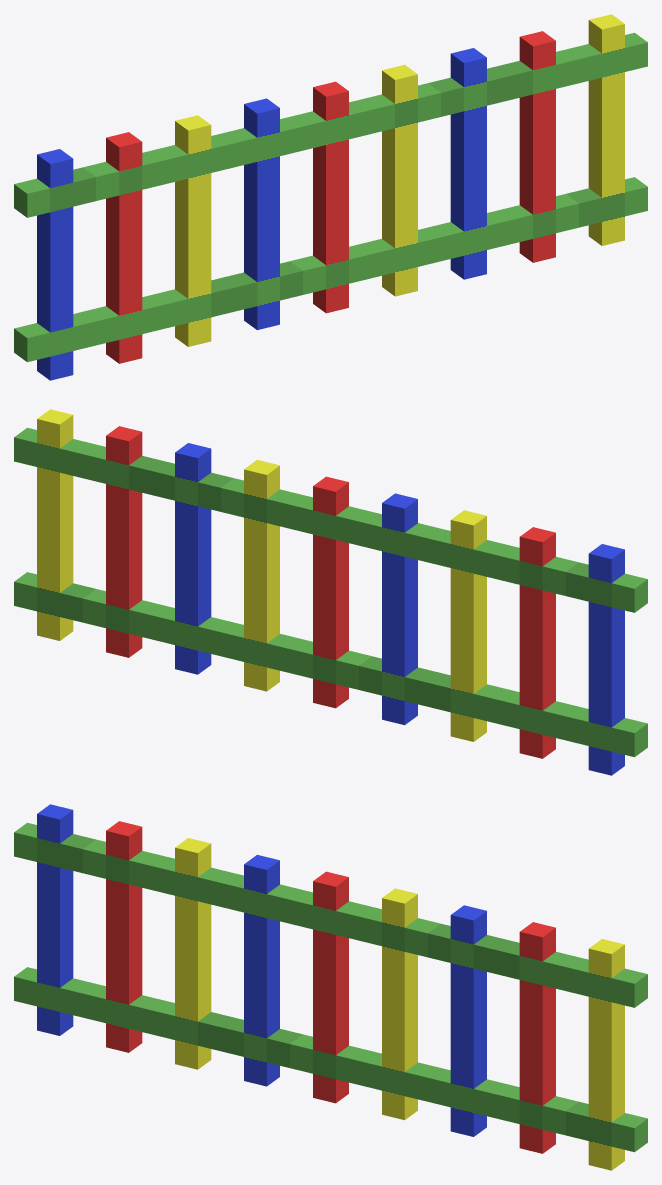
Rendered from colouredfence.obj.
The picture shows the model from 3 angles, top to bottom: view 1: azimuth 30°, elevation 25°; view 2: azimuth 150°, elevation 25°; view 3: azimuth 330°, elevation 25°; orthographic projection.
Parts seen in each view (by area): view 1: Box_44; view 2: Box_44; view 3: Box_44.
Boxes of the visible parts, x1=… form: Box_44: x1=14, y1=14, x2=647, y2=380; Box_44: x1=14, y1=409, x2=647, y2=775; Box_44: x1=14, y1=804, x2=647, y2=1170.
Bounding box in the file's own units: 27 × 9 × 1.
Materials: 1 (1 with a texture image).
